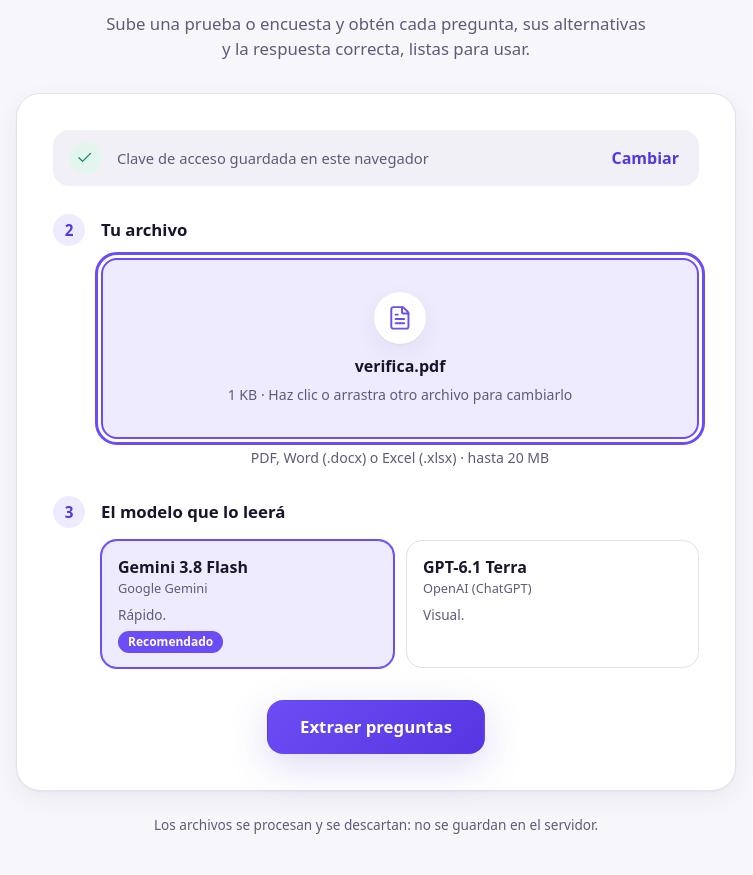
Scenario: App › never offers the precise mode to keys that only have the fast one
Earlier steps of the test are not shown.
(page scrolled)
Click the button "Extraer preguntas" at [376, 727], box [267, 700, 485, 754]
(page scrolled)
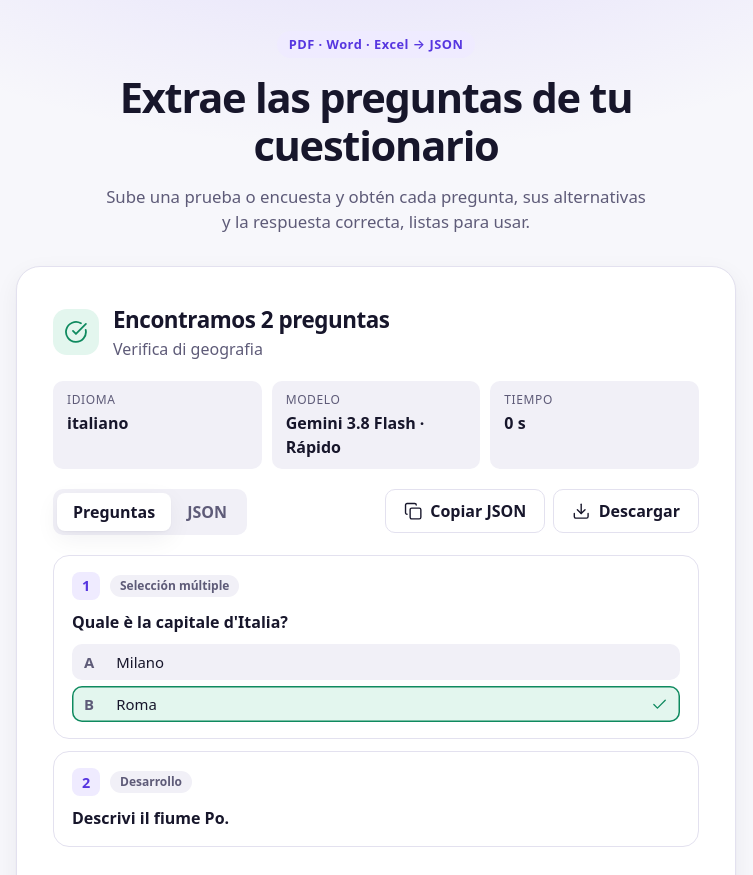
Result: the text "Gemini 3.8 Flash · Rápido" is shown at [286, 412, 424, 458]
